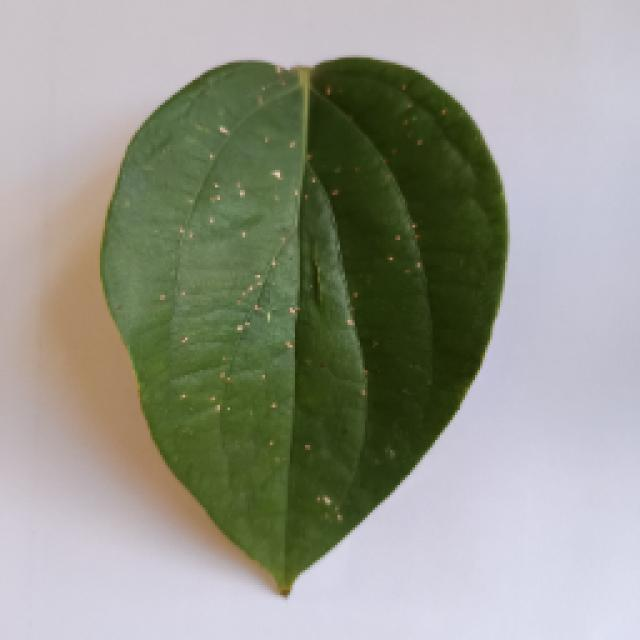pollu-disease: (75, 60, 543, 598)
